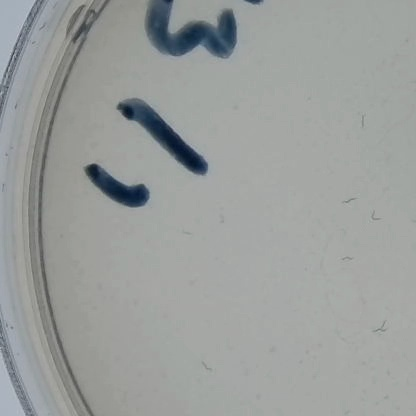worm: (349, 112, 373, 142), (216, 203, 236, 229), (195, 357, 215, 381), (372, 315, 393, 335), (398, 78, 416, 101), (337, 196, 362, 210), (325, 332, 348, 347), (367, 206, 384, 225), (175, 227, 199, 240), (337, 254, 357, 266), (406, 216, 416, 229)
